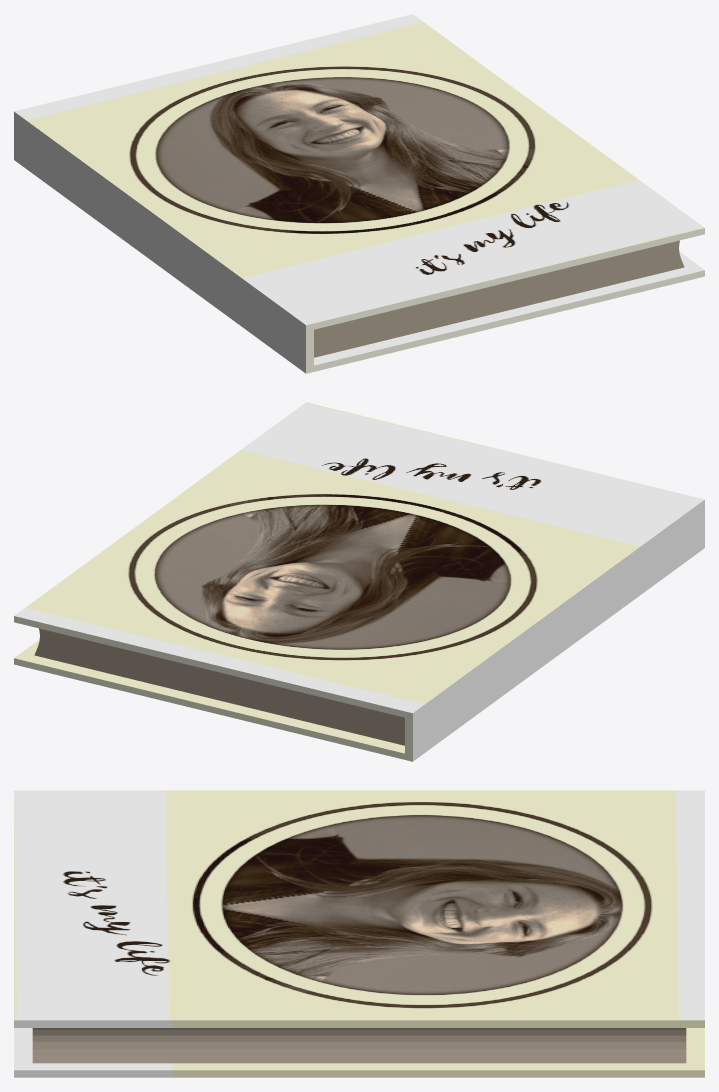
File: uploads_files_3613578_books.glb
The picture shows the model from 3 angles, top to bottom: view 1: azimuth 30°, elevation 25°; view 2: azimuth 150°, elevation 25°; view 3: azimuth 270°, elevation 25°; orthographic projection. The views are drawn at different scales.
Visible parts, largest first — view 1: Plane.001, Plane; view 2: Plane.001, Plane; view 3: Plane.001, Plane.
Part boxes in pixels (x1=…): Plane.001: x1=14, y1=14, x2=704, y2=373; Plane: x1=314, y1=240, x2=684, y2=357; Plane.001: x1=14, y1=402, x2=704, y2=761; Plane: x1=34, y1=628, x2=404, y2=745; Plane.001: x1=14, y1=790, x2=704, y2=1077; Plane: x1=32, y1=1028, x2=686, y2=1063.
Size of what is drawn, in the model's own units: 2.64 by 0.3074 by 3.35.
Materials: 2 (1 with a texture image).
